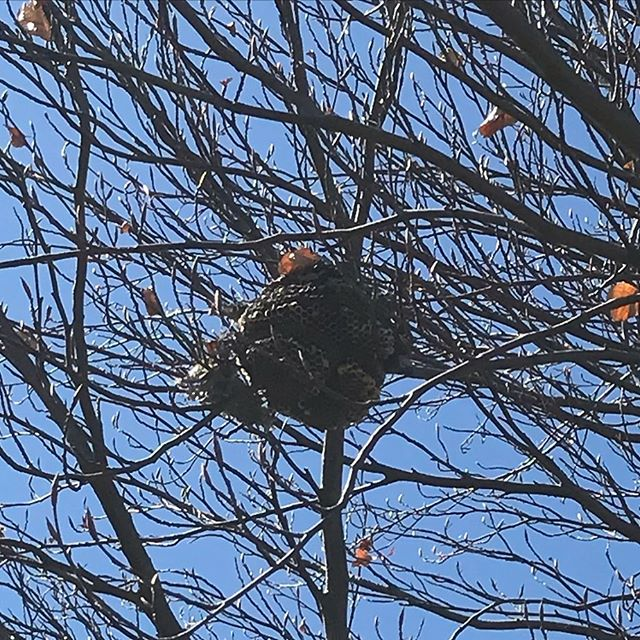vegetation: (9, 5, 640, 640)
